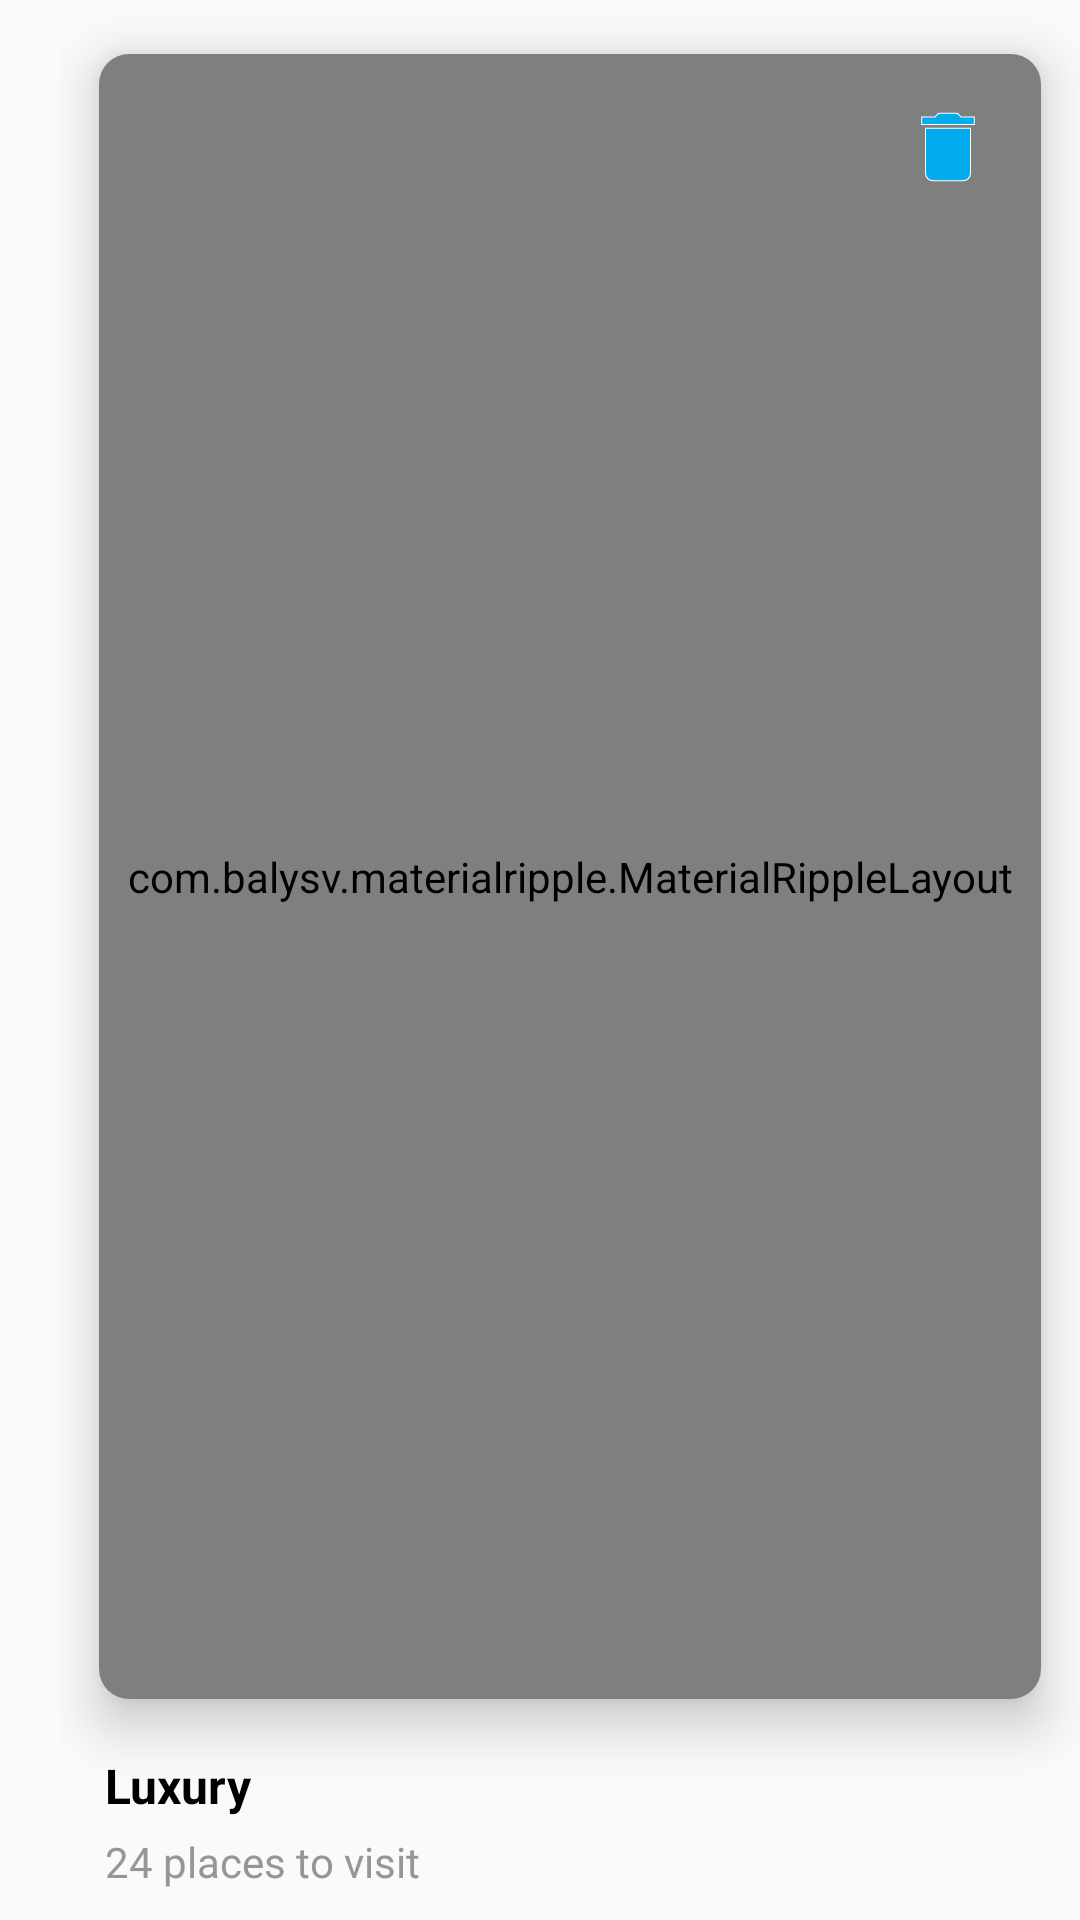

Point at icon controls on the screen. Image size 1080×1920, points as (x,y).
delete: (948,147)
